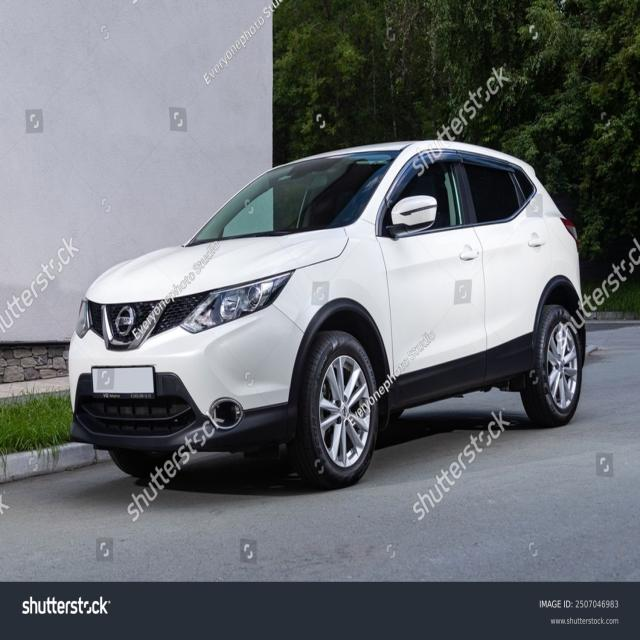nissan: (114, 304, 136, 342)
